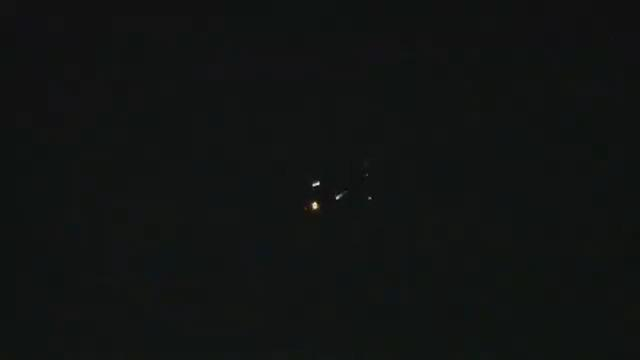Plane: (284, 165, 401, 219)
